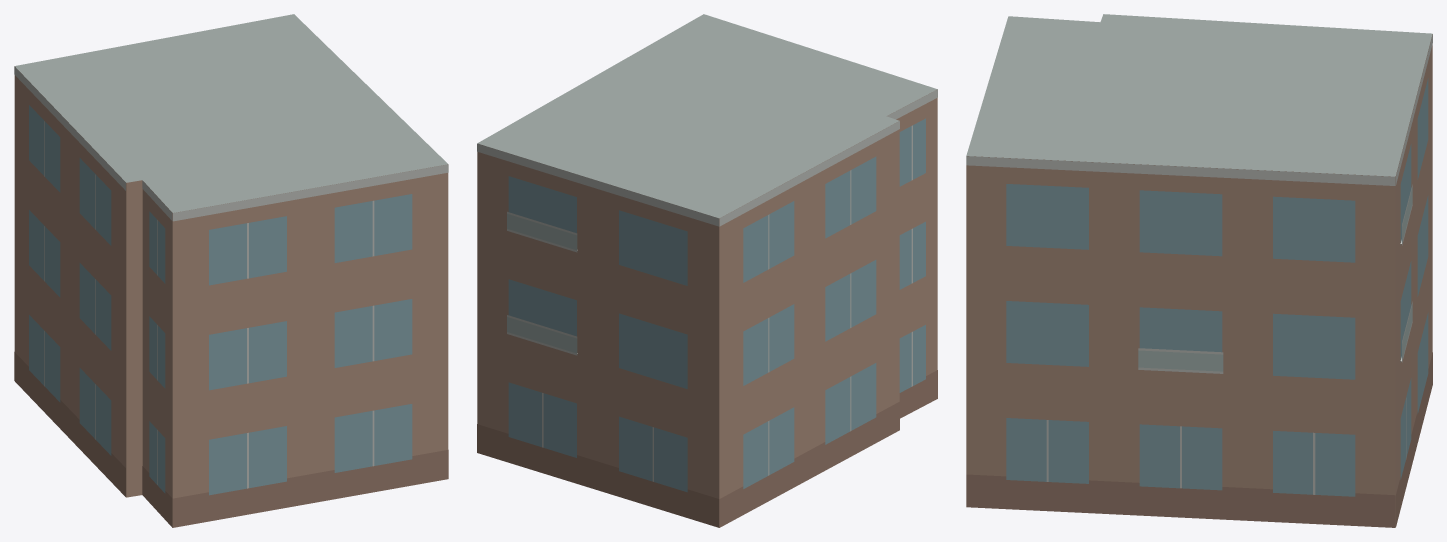
The model's file is survey-upis-32546512.glb.
The picture shows the model from 3 angles, left to right: view 1: azimuth 30°, elevation 25°; view 2: azimuth 150°, elevation 25°; view 3: azimuth 270°, elevation 25°; orthographic projection. The views are drawn at different scales.
Parts seen in each view (by area): view 1: survey-upis-32546512.tmp; view 2: survey-upis-32546512.tmp; view 3: survey-upis-32546512.tmp.
Part boxes in pixels (x1,y1,x2,y2): survey-upis-32546512.tmp: [14, 14, 448, 527]; survey-upis-32546512.tmp: [477, 14, 937, 527]; survey-upis-32546512.tmp: [966, 14, 1432, 527].
Bounding box in the file's own units: 9.05 × 9.1 × 10.97.
